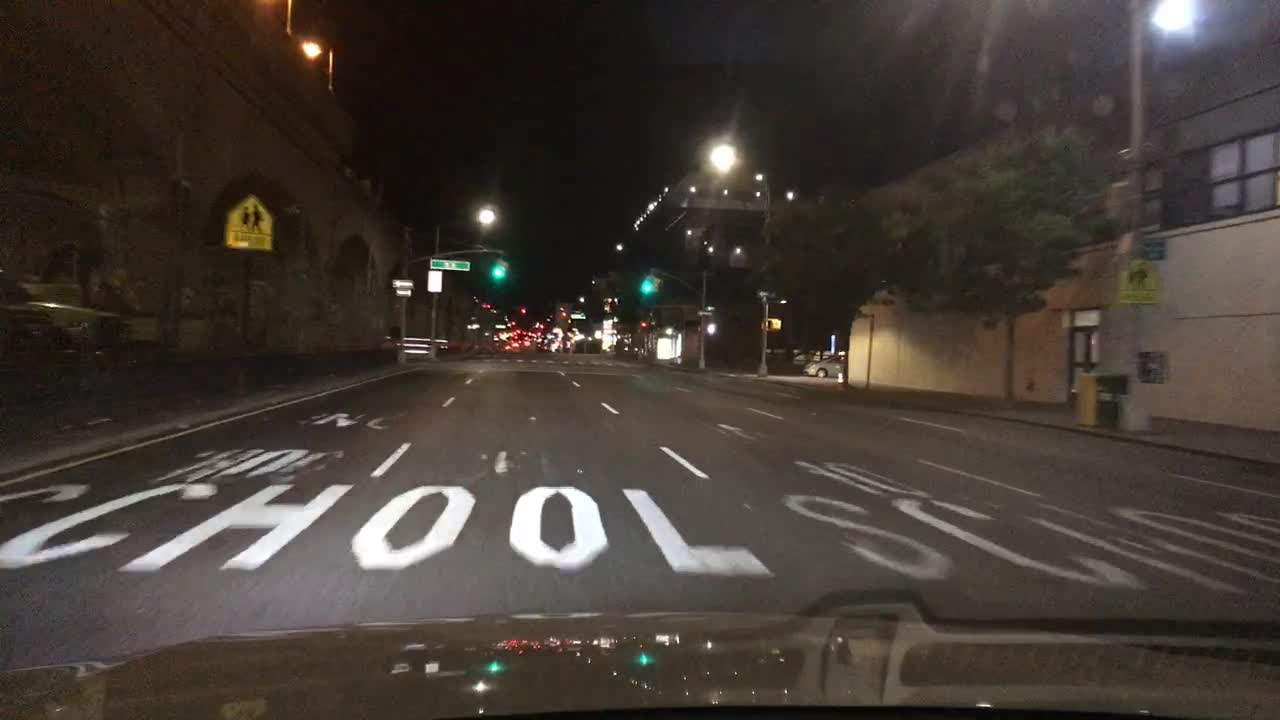car: (0, 293, 133, 366), (801, 348, 849, 377), (791, 349, 820, 366), (549, 334, 574, 352), (510, 334, 532, 347), (541, 334, 556, 352), (501, 340, 519, 354), (535, 335, 547, 349)
traffic light: (640, 272, 660, 296), (491, 256, 508, 281), (763, 316, 783, 331), (638, 316, 648, 327), (559, 309, 569, 318), (483, 302, 495, 309), (519, 307, 528, 314)
traffic sign: (224, 191, 275, 254), (1119, 254, 1164, 304), (1140, 237, 1170, 259), (429, 257, 472, 269), (756, 286, 786, 301), (427, 270, 442, 292), (392, 278, 415, 288), (395, 287, 412, 298), (570, 310, 586, 321), (698, 308, 714, 316)
